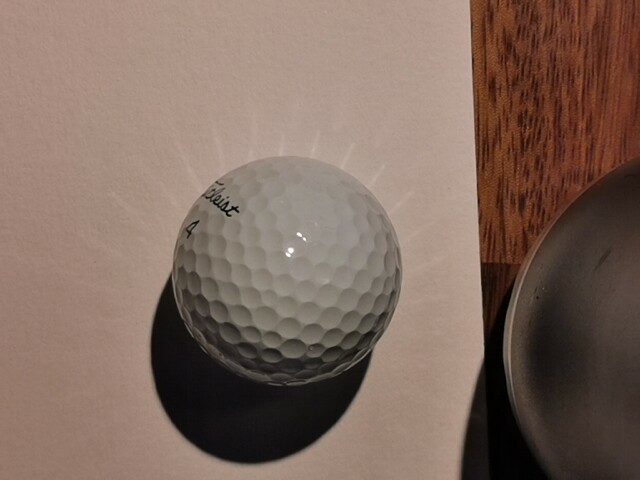Ball: (172, 156, 403, 387)
Titleist: (201, 180, 240, 218)
